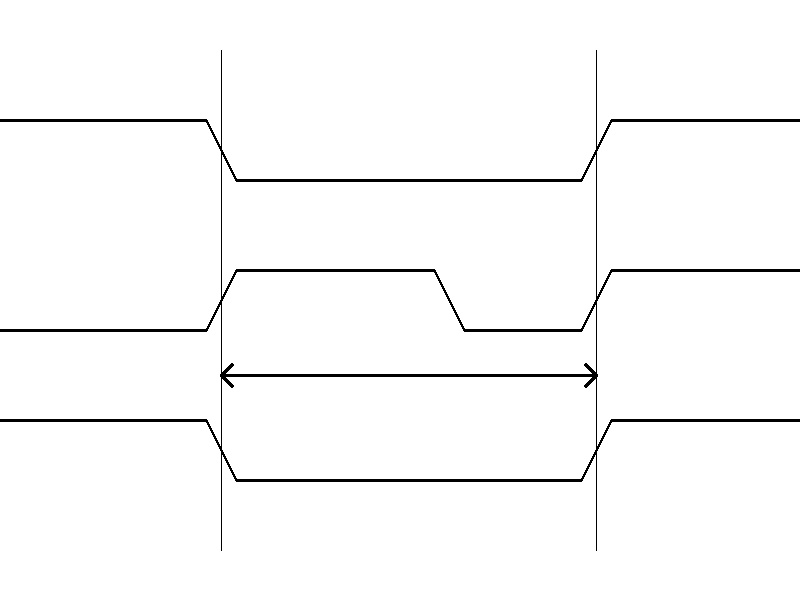double_arrow: (221, 360, 596, 390)
